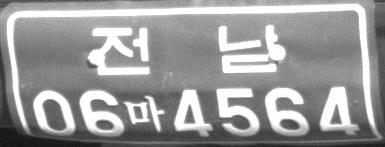0: (32, 89, 76, 137)
4: (319, 85, 360, 136), (173, 88, 212, 136)
5: (214, 88, 261, 137)
6: (265, 85, 310, 137), (79, 88, 125, 138)
마: (126, 95, 165, 131)
전남_D: (92, 23, 278, 76)
